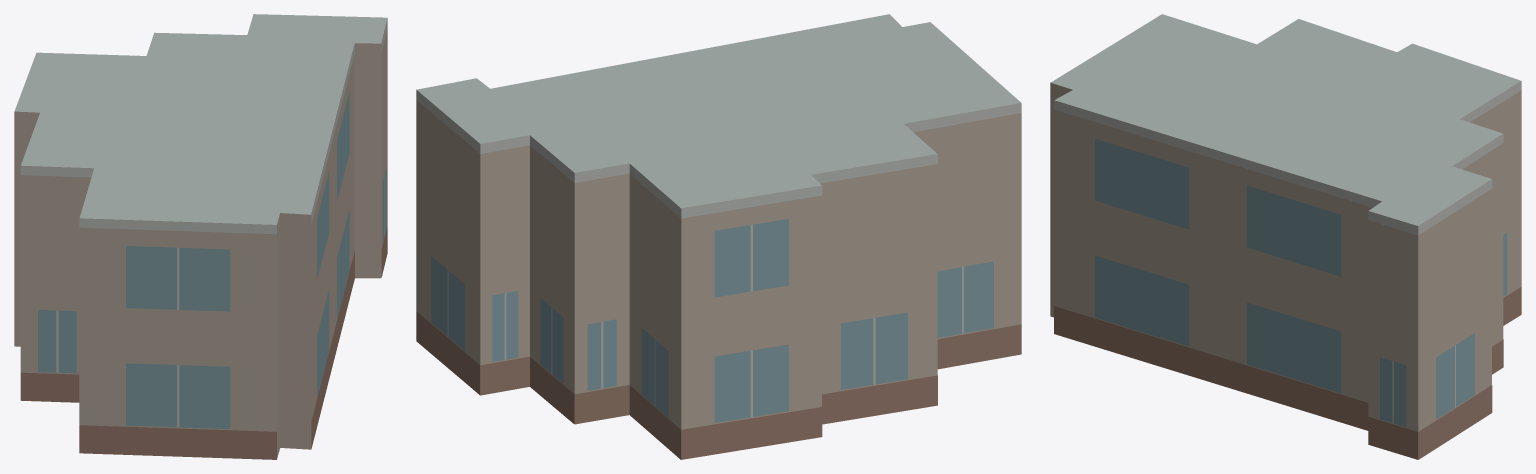
File: survey-upis-32770182.glb
3 views of the same model, side by side, from view 1: azimuth 30°, elevation 25°; view 2: azimuth 150°, elevation 25°; view 3: azimuth 270°, elevation 25° (orthographic). The views are drawn at different scales.
Parts seen in each view (by area): view 1: survey-upis-32770182.tmp; view 2: survey-upis-32770182.tmp; view 3: survey-upis-32770182.tmp.
Part boxes in pixels (x1,y1,x2,y2): survey-upis-32770182.tmp: (14, 14, 387, 459); survey-upis-32770182.tmp: (416, 14, 1021, 459); survey-upis-32770182.tmp: (1050, 14, 1521, 459).
Size of the model in its own units: 11.88 by 6.1 by 11.15.
